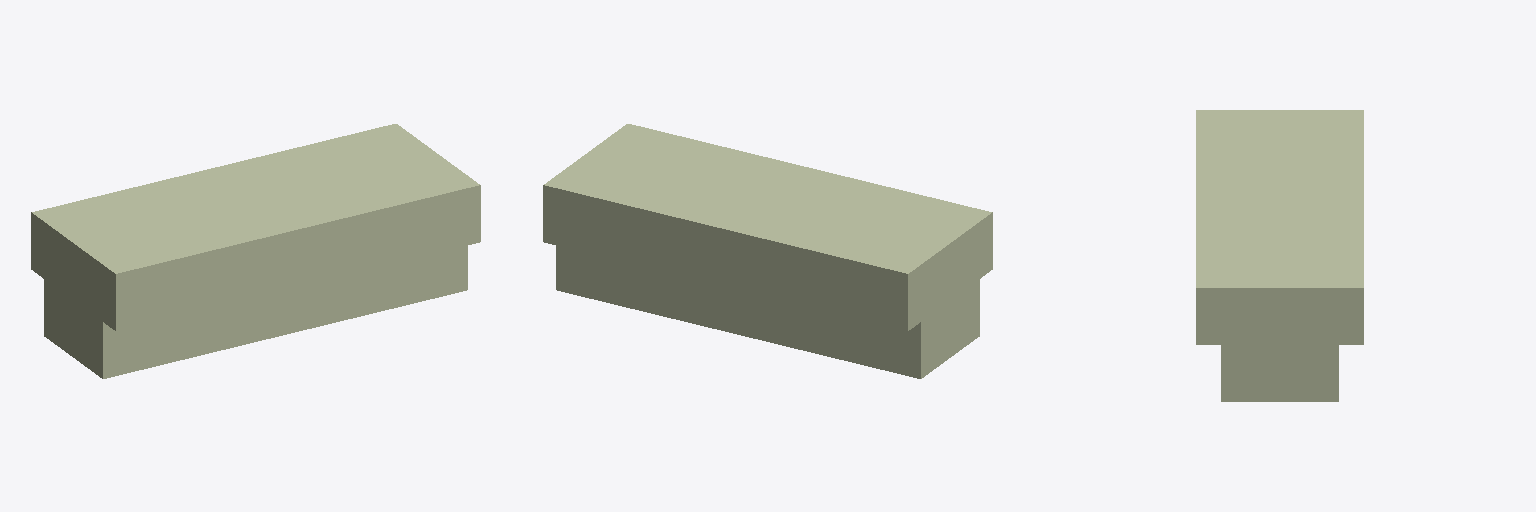
File: body.obj
The picture shows the model from 3 angles: view 1: azimuth 30°, elevation 25°; view 2: azimuth 150°, elevation 25°; view 3: azimuth 270°, elevation 25°; orthographic projection.
Parts seen in each view (by area): view 1: BODY; view 2: BODY; view 3: BODY.
Part boxes in pixels (x1,y1,x2,y2): BODY: (31, 124, 480, 378); BODY: (543, 124, 992, 378); BODY: (1196, 110, 1363, 401).
Size of the model in its own units: 5 by 1.5 by 2.